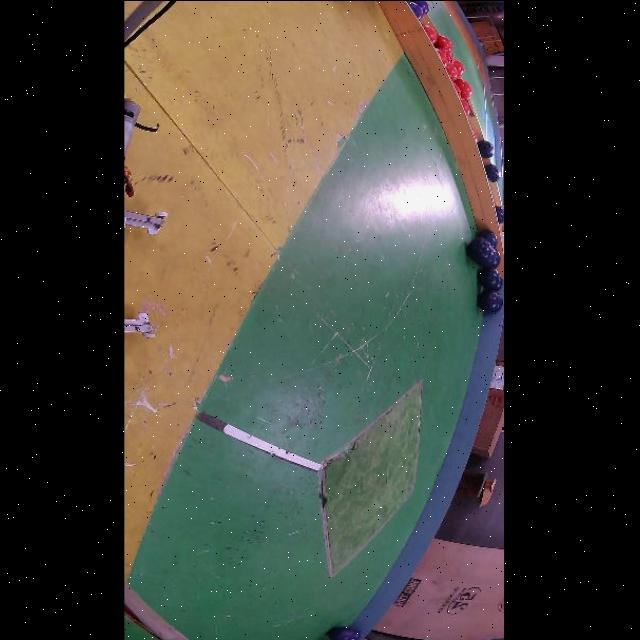B: (468, 237, 495, 263), (479, 289, 500, 312), (479, 267, 500, 289), (478, 229, 498, 248), (486, 163, 502, 182), (479, 139, 495, 158), (482, 248, 498, 266), (494, 293, 505, 312), (494, 274, 505, 291), (492, 249, 502, 267), (496, 205, 505, 223)
P: (409, 0, 425, 18), (409, 0, 431, 13)
R: (456, 79, 473, 98), (423, 23, 439, 43), (435, 34, 454, 50), (436, 47, 450, 65), (447, 62, 459, 81), (455, 59, 465, 76), (462, 98, 471, 116), (455, 83, 463, 97), (448, 50, 455, 62)
